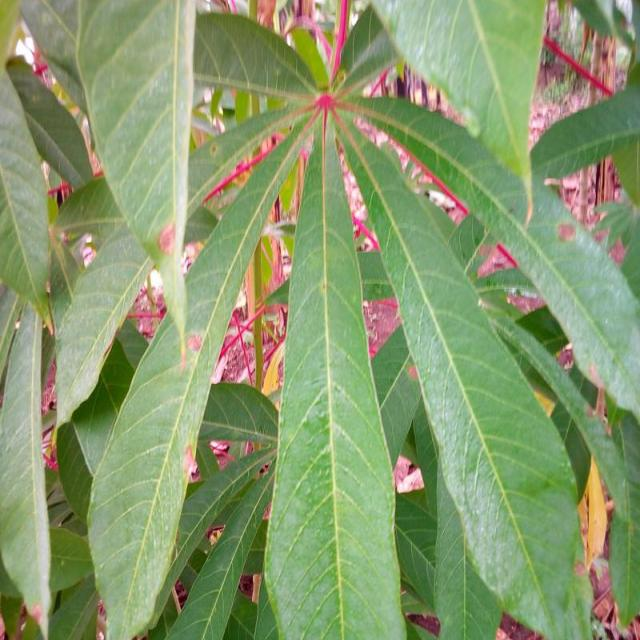cassava leaf: (1, 0, 638, 638), (338, 108, 596, 638), (260, 105, 407, 638)
